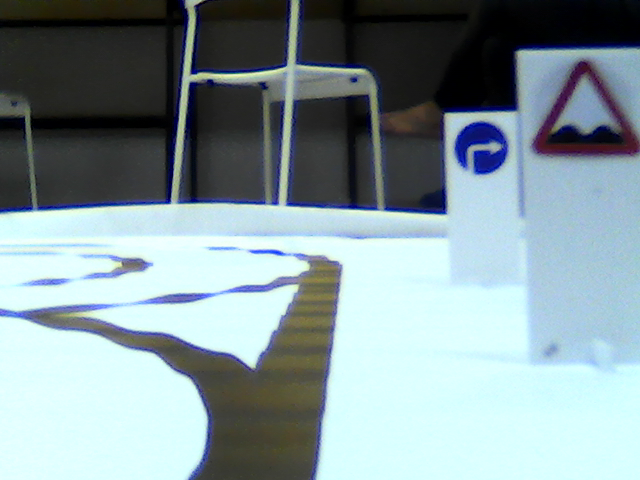Nerov: (534, 59, 640, 159)
Right: (454, 120, 508, 176)
